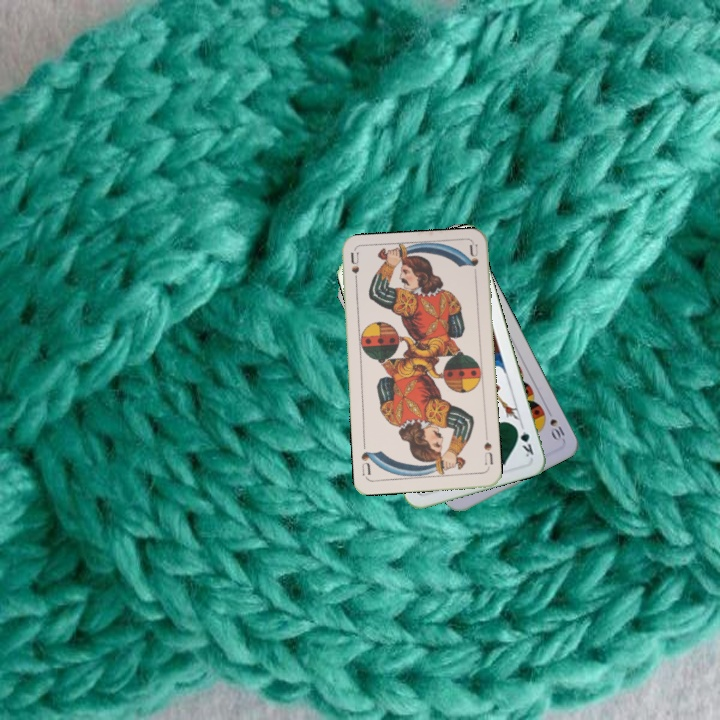GK: (512, 420, 536, 460)
S10: (543, 405, 567, 444)
SU: (480, 431, 495, 472), (347, 250, 362, 290)
